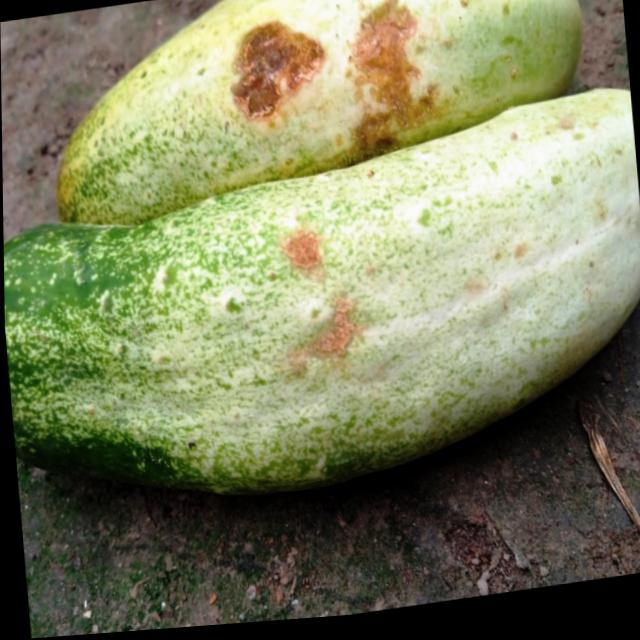Belly-Rot: (225, 0, 445, 178), (277, 229, 360, 380)
